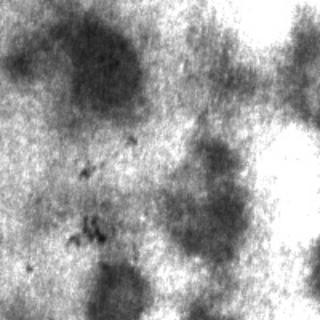patches: (5, 7, 137, 115), (200, 15, 318, 120), (162, 136, 248, 262), (86, 248, 150, 316)
